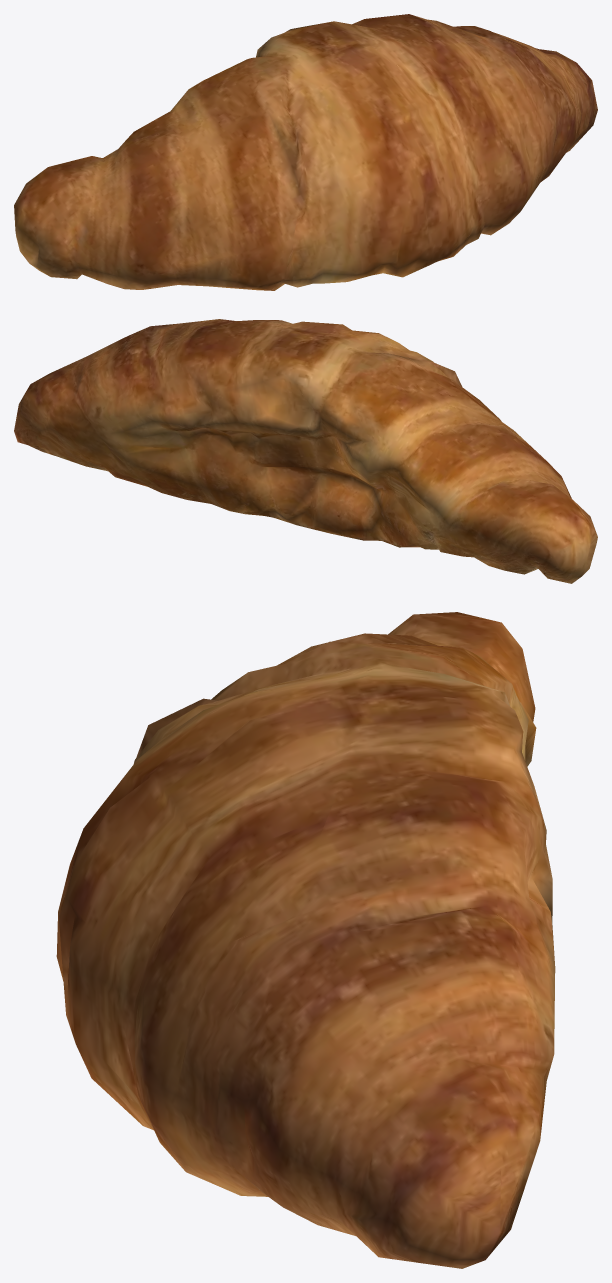
Rendered from croissant.glb.
3 views of the same model, one above another, from view 1: azimuth 30°, elevation 25°; view 2: azimuth 150°, elevation 25°; view 3: azimuth 270°, elevation 25° (orthographic). The views are drawn at different scales.
Parts seen in each view (by area): view 1: croissant; view 2: croissant; view 3: croissant.
Boxes of the visible parts, x1,y1,x2,y2 form: croissant: (14,14,597,290); croissant: (14,319,597,583); croissant: (56,612,555,1268).
Bounding box in the file's own units: 0.1993 × 0.0617 × 0.0755.
Materials: 1 (1 with a texture image).
